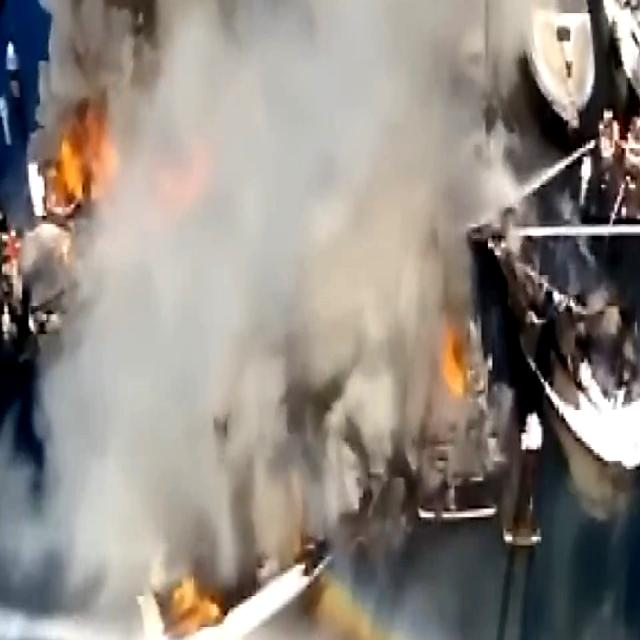smoke: (49, 0, 258, 95)
